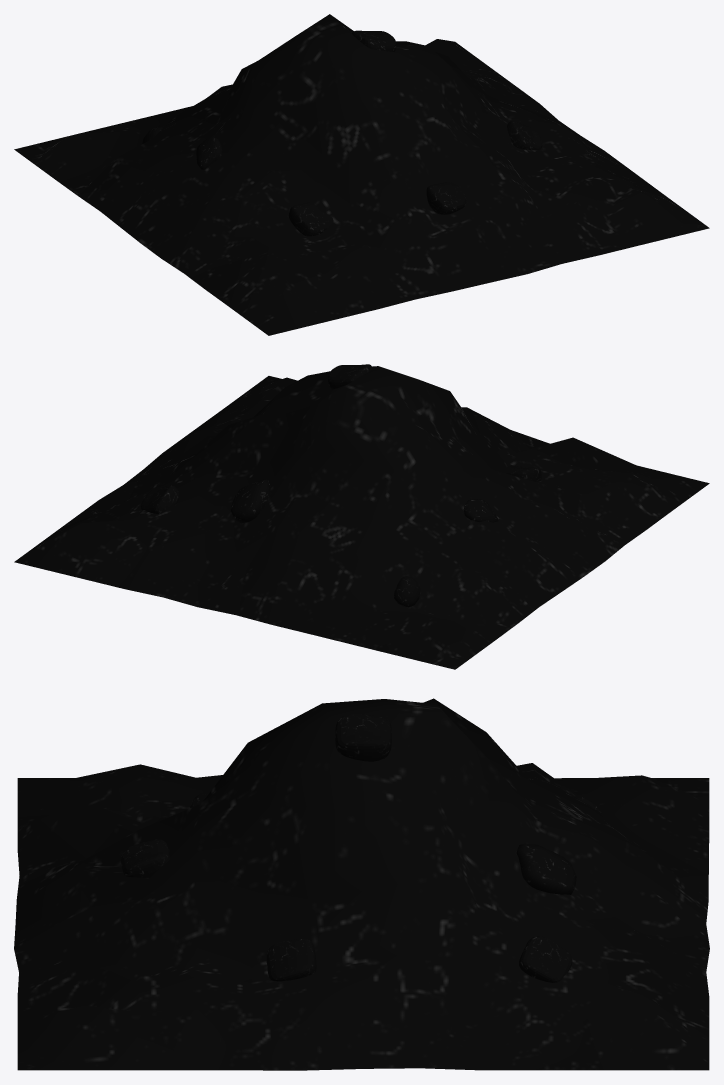
File: Pile of Coal.fbx
3 views of the same model, one above another, from view 1: azimuth 30°, elevation 25°; view 2: azimuth 150°, elevation 25°; view 3: azimuth 270°, elevation 25° (orthographic). The views are drawn at different scales.
Parts seen in each view (by area): view 1: Plane, Cube.004, Cube.005, Cube.006, Cube.001, Cube.003; view 2: Plane, Cube, Cube.007, Cube.001, Cube.002, Cube.003; view 3: Plane, Cube.001, Cube, Cube.006, Cube.007, Cube.005.
Boxes of the visible parts, <box> form: Plane: <box>14,14,709,335</box>; Cube.004: <box>288,202,333,236</box>; Cube.005: <box>426,182,466,214</box>; Cube.006: <box>507,121,542,150</box>; Cube.001: <box>352,30,395,51</box>; Cube.003: <box>196,137,221,169</box>; Plane: <box>14,366,709,669</box>; Cube: <box>230,479,269,523</box>; Cube.007: <box>141,485,179,513</box>; Cube.001: <box>328,364,372,389</box>; Cube.002: <box>394,576,420,607</box>; Cube.003: <box>463,499,498,522</box>; Plane: <box>14,698,709,1070</box>; Cube.001: <box>335,714,391,761</box>; Cube: <box>516,843,576,894</box>; Cube.006: <box>266,938,316,981</box>; Cube.007: <box>519,936,572,982</box>; Cube.005: <box>121,839,169,877</box>.
Size of the model in its own units: 495 by 165 by 497.
